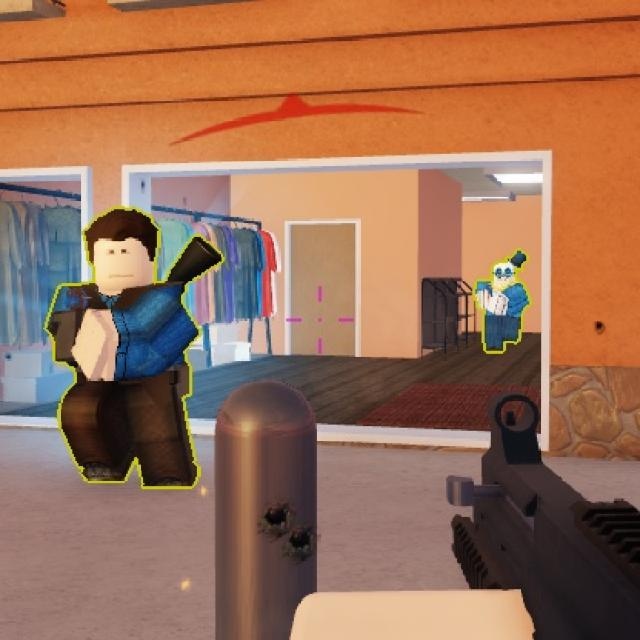player: (64, 201, 188, 475), (484, 245, 522, 356)
